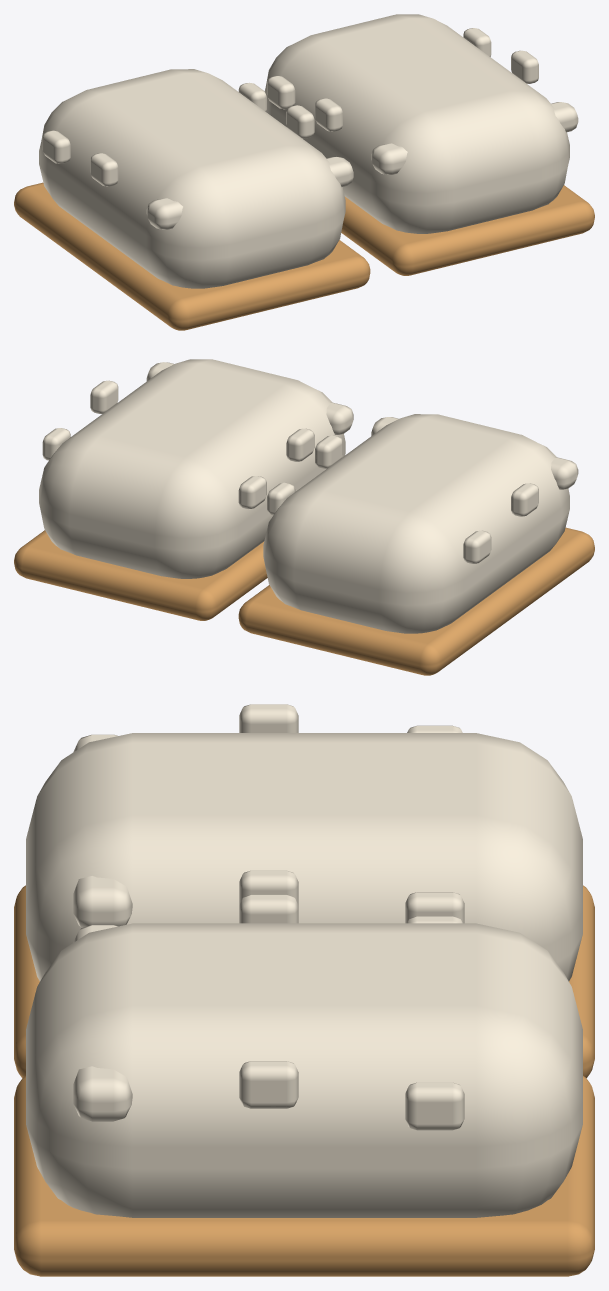
Rendered from comfy_sandals.glb.
3 views of the same model, one above another, from view 1: azimuth 30°, elevation 25°; view 2: azimuth 150°, elevation 25°; view 3: azimuth 270°, elevation 25° (orthographic). The views are drawn at different scales.
Parts seen in each view (by area): view 1: comfy_sandals_LegL, comfy_sandals_LegR; view 2: comfy_sandals_LegL, comfy_sandals_LegR; view 3: comfy_sandals_LegR, comfy_sandals_LegL.
Boxes of the visible parts, x1,y1,x2,y2 form: comfy_sandals_LegL: (14, 69, 370, 330); comfy_sandals_LegR: (264, 14, 594, 275); comfy_sandals_LegL: (238, 414, 594, 675); comfy_sandals_LegR: (14, 359, 353, 620); comfy_sandals_LegR: (14, 894, 594, 1276); comfy_sandals_LegL: (14, 704, 594, 1077).
Size of the model in its own units: 0.37 by 0.1075 by 0.245.
